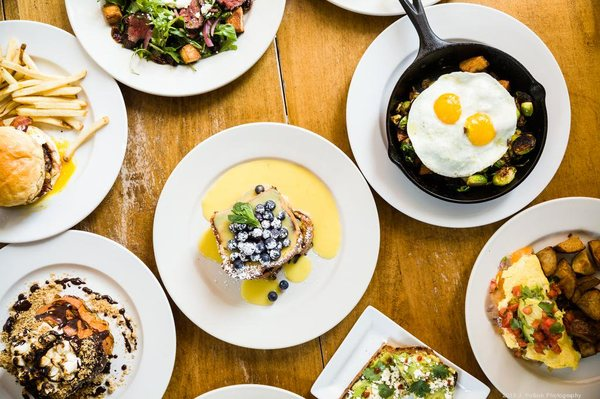sushi: (148, 123, 383, 352), (343, 7, 573, 229), (463, 195, 600, 396), (65, 1, 288, 96), (0, 261, 146, 396)
